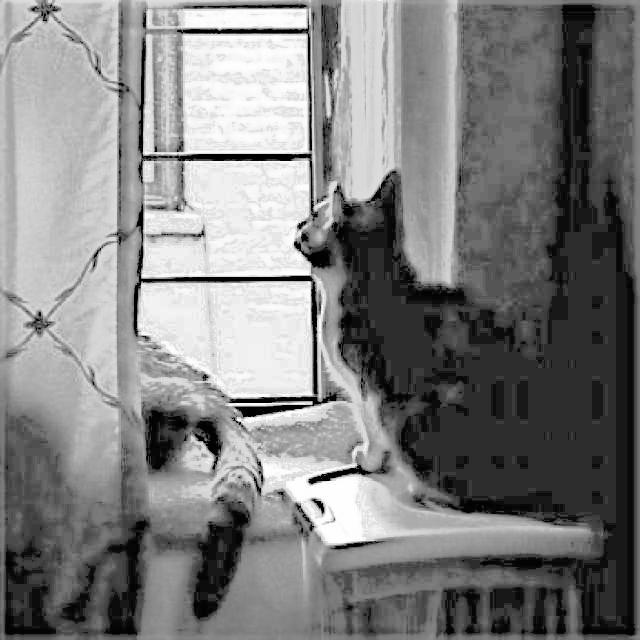Cat: (286, 157, 517, 522)
